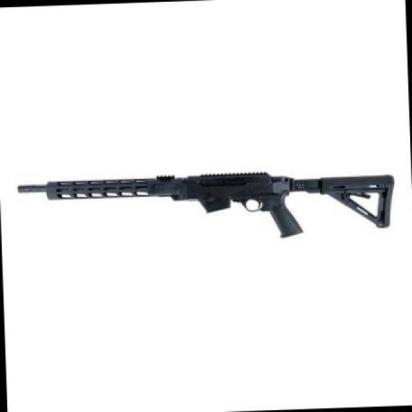Gun: (7, 171, 398, 272)
